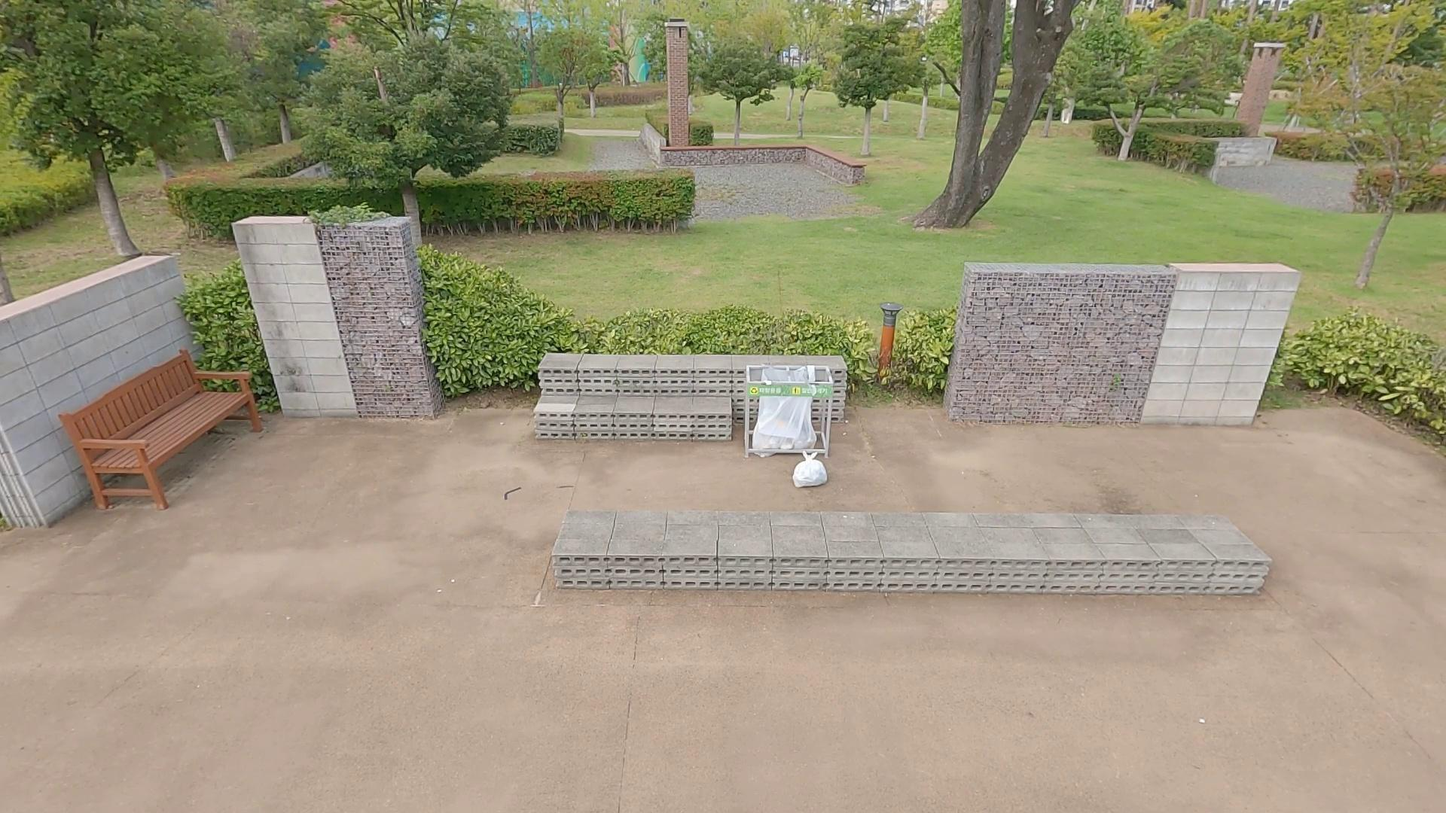trash: (792, 450, 829, 488)
